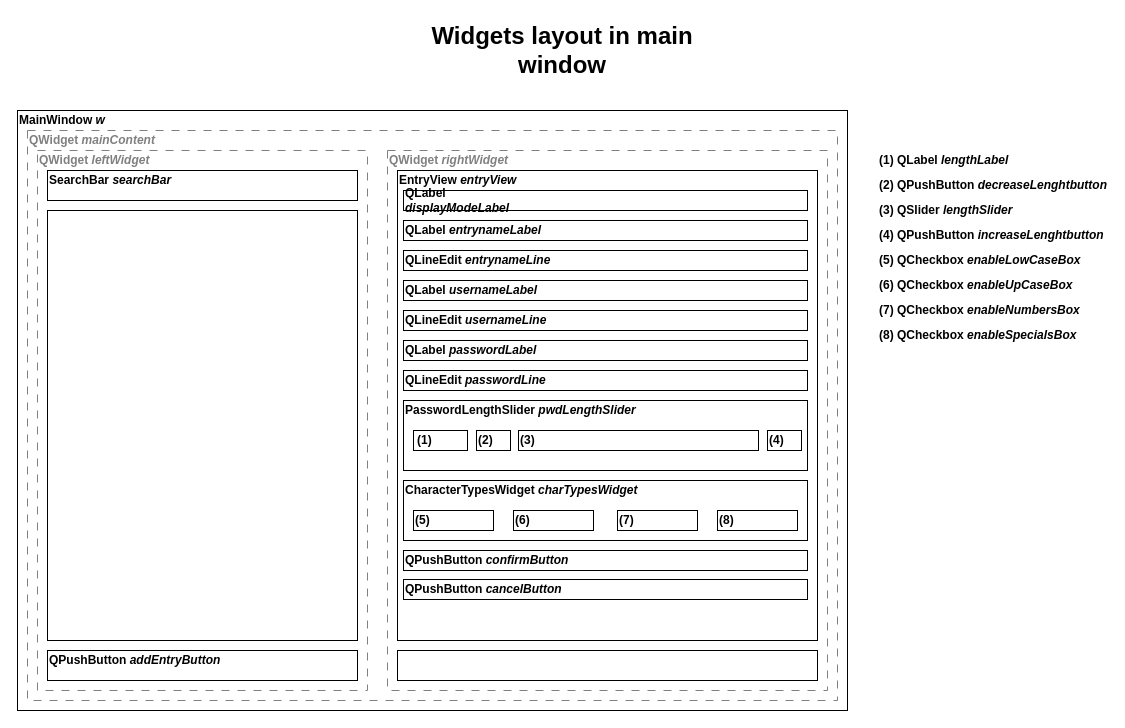
Some shapes in this 1125 by 728 pixel diagram are drawn without their labels. The shapes that lost their labels are listed below. From the top down, each one's centre as x and y in pixels, then its label:
At (x=202, y=425): "EntryListView entryListView".
At (x=607, y=665): "QPushButton delEntryButton".
